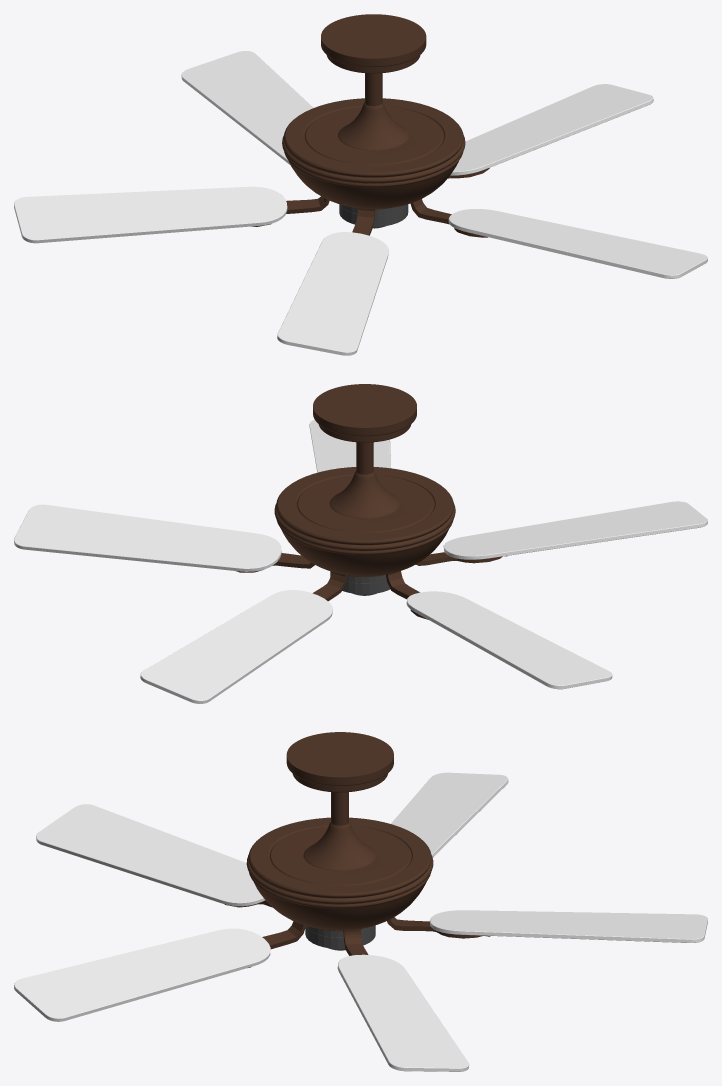
File: Celing_Fan_Updated_white.FBX
3 renders of one model, top to bottom at view 1: azimuth 30°, elevation 25°; view 2: azimuth 150°, elevation 25°; view 3: azimuth 270°, elevation 25°, orthographic. The views are drawn at different scales.
Visible parts, largest first — view 1: Upper_Fan_Part-Pivot002, Fan_Flap_4-Pivot002, Fan_Flap_5-Pivot002, Fan_Flap_1-Pivot002, Fan_Flap_2-Pivot002, Fan_Flap_3-Pivot002, _light002, Brown_SS_2-Pivot002, Brown_SS_5-Pivot002; view 2: Upper_Fan_Part-Pivot002, Fan_Flap_2-Pivot002, Fan_Flap_3-Pivot002, Fan_Flap_4-Pivot002, Fan_Flap_5-Pivot002, Fan_Flap_1-Pivot002, _light002, Brown_SS_4-Pivot002, Brown_SS_5-Pivot002; view 3: Upper_Fan_Part-Pivot002, Fan_Flap_1-Pivot002, Fan_Flap_5-Pivot002, Fan_Flap_2-Pivot002, Fan_Flap_3-Pivot002, Fan_Flap_4-Pivot002, _light002, Brown_SS_4-Pivot002, Brown_SS_2-Pivot002.
Boxes of the visible parts, box(x1,y1,x2,y2) form: Upper_Fan_Part-Pivot002: box(282, 14, 465, 209); Fan_Flap_4-Pivot002: box(14, 186, 287, 243); Fan_Flap_5-Pivot002: box(277, 232, 388, 355); Fan_Flap_1-Pivot002: box(448, 209, 707, 278); Fan_Flap_2-Pivot002: box(450, 84, 653, 175); Fan_Flap_3-Pivot002: box(181, 51, 313, 164); _light002: box(339, 204, 408, 228); Brown_SS_2-Pivot002: box(410, 199, 487, 237); Brown_SS_5-Pivot002: box(252, 196, 329, 226); Upper_Fan_Part-Pivot002: box(274, 384, 455, 577); Fan_Flap_2-Pivot002: box(14, 504, 281, 571); Fan_Flap_3-Pivot002: box(140, 590, 332, 703); Fan_Flap_4-Pivot002: box(406, 591, 612, 689); Fan_Flap_5-Pivot002: box(443, 501, 707, 559); Fan_Flap_1-Pivot002: box(309, 419, 390, 472); _light002: box(330, 571, 389, 595); Brown_SS_4-Pivot002: box(312, 571, 347, 601); Brown_SS_5-Pivot002: box(386, 571, 428, 619); Upper_Fan_Part-Pivot002: box(246, 732, 433, 931); Fan_Flap_1-Pivot002: box(14, 928, 270, 1021); Fan_Flap_5-Pivot002: box(36, 804, 264, 906); Fan_Flap_2-Pivot002: box(337, 954, 469, 1071); Fan_Flap_3-Pivot002: box(430, 910, 707, 942); Fan_Flap_4-Pivot002: box(391, 772, 508, 857); _light002: box(305, 925, 375, 950); Brown_SS_4-Pivot002: box(387, 917, 490, 938); Brown_SS_2-Pivot002: box(248, 921, 305, 967).
Size of the model in its own units: 2.15 by 0.639 by 2.09.
